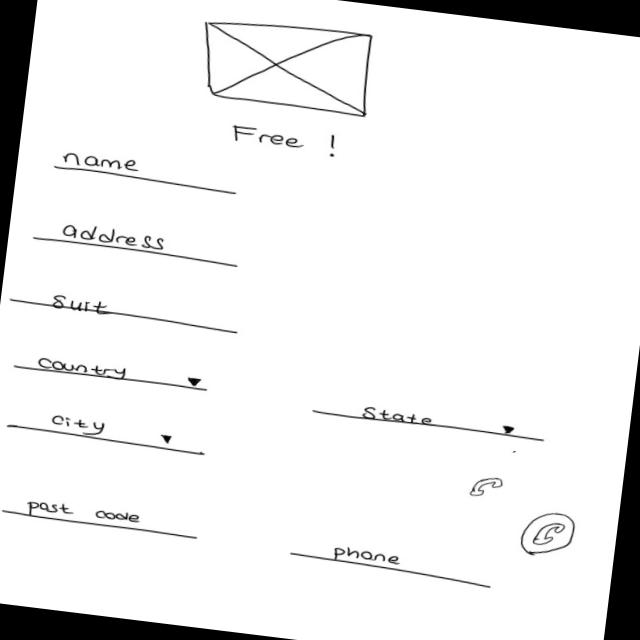icon-button: (518, 508, 578, 562)
image: (193, 12, 380, 119)
input: (5, 285, 242, 336), (29, 216, 242, 268), (286, 538, 494, 590), (0, 491, 201, 541), (52, 148, 240, 198)
label: (228, 122, 306, 150)
select: (2, 403, 210, 458), (312, 397, 549, 445), (10, 352, 210, 393)
